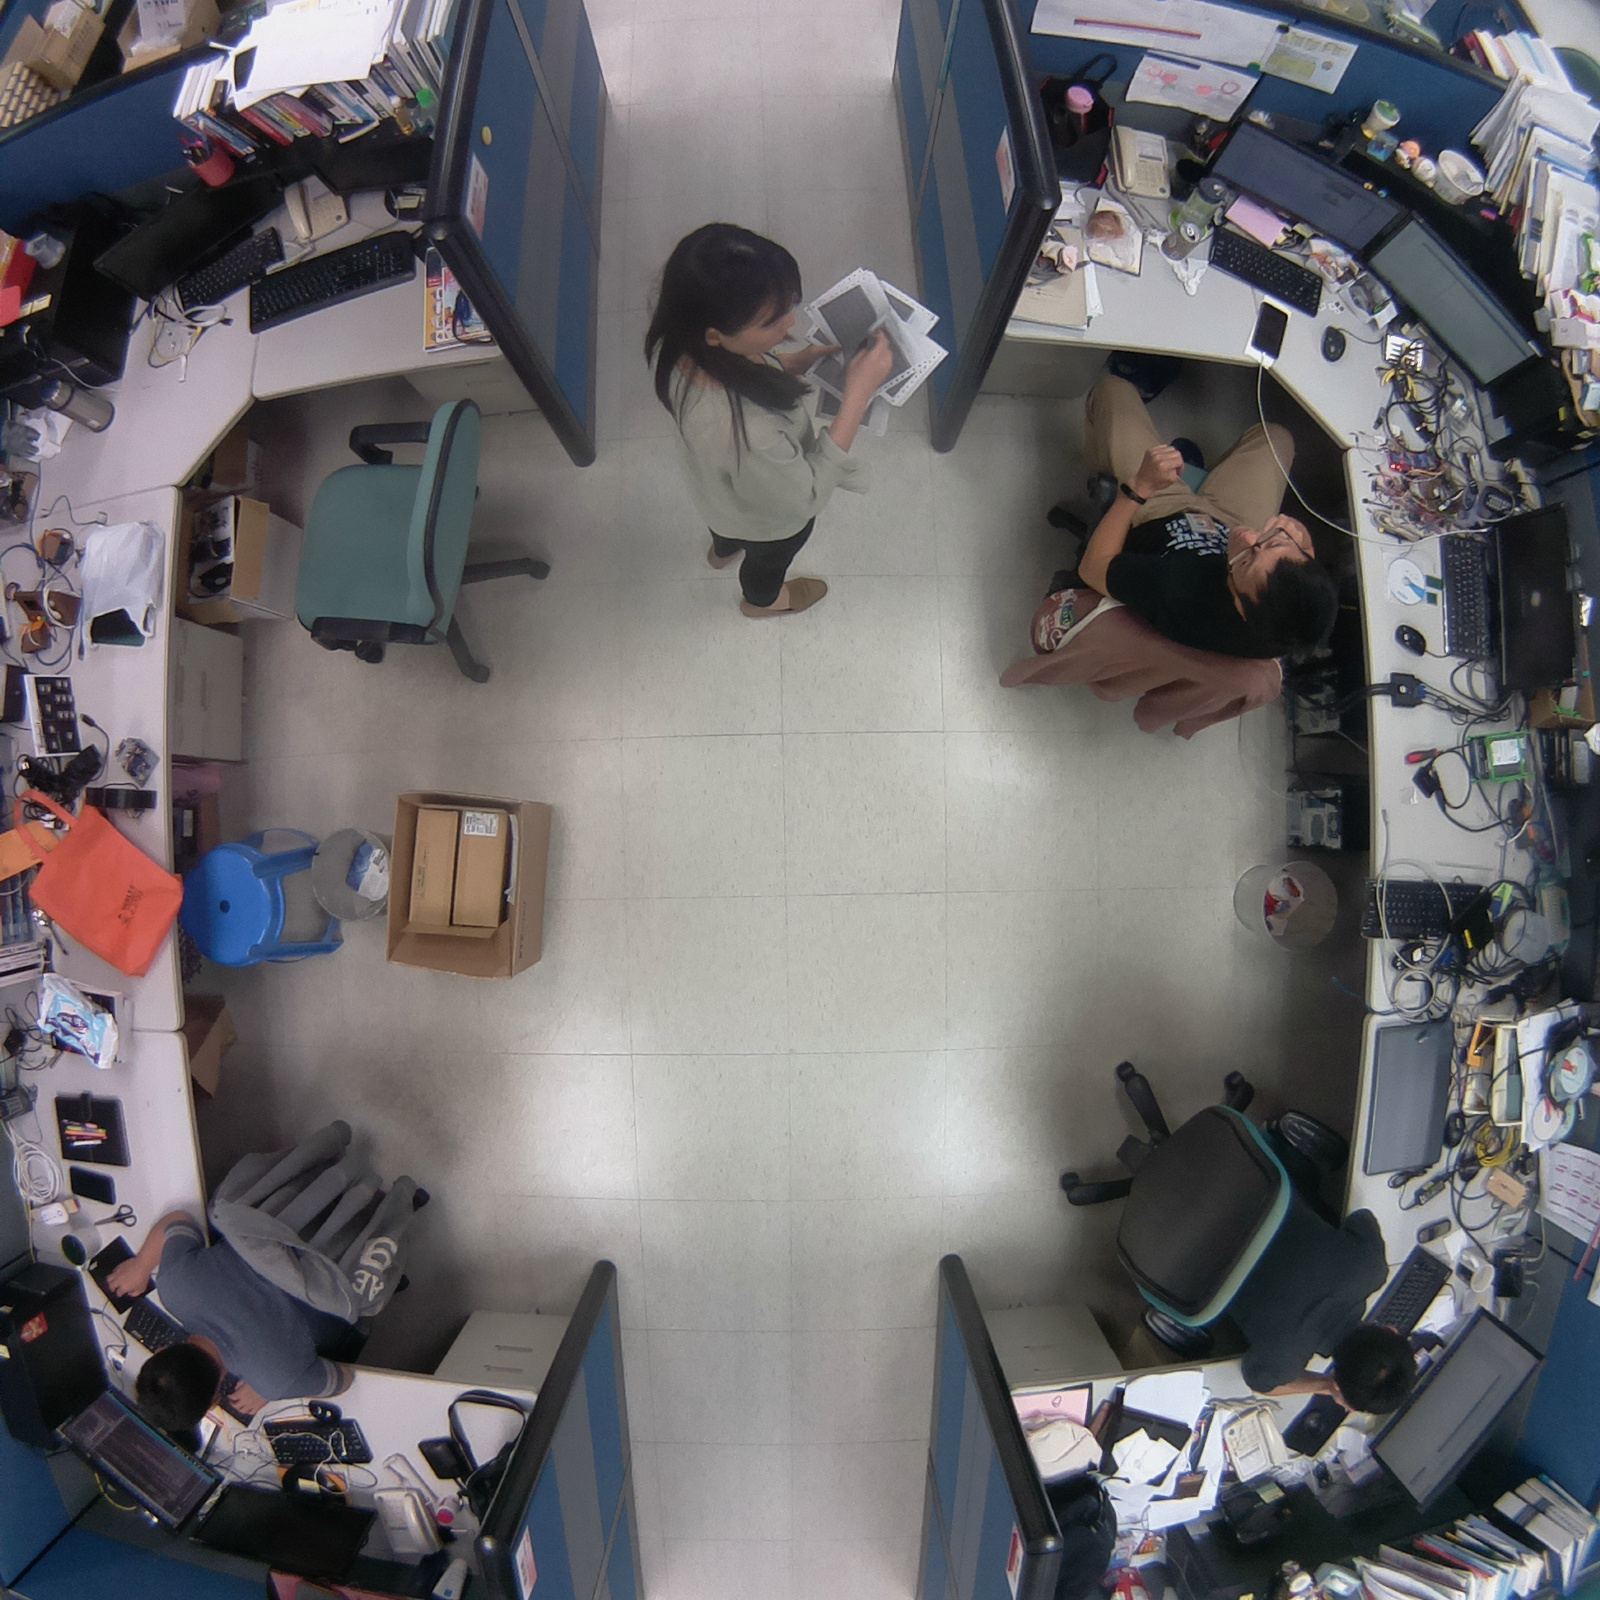chair: (268, 388, 565, 696)
head: (652, 218, 809, 359), (1207, 504, 1348, 653), (119, 1333, 231, 1441), (1325, 1314, 1429, 1425)
sitting: (1045, 1037, 1430, 1438), (996, 369, 1350, 752), (101, 1096, 463, 1457)
standing: (625, 203, 908, 627)
